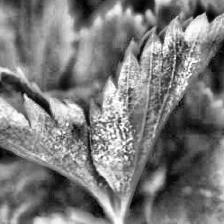Powdery Mildew Leaf: (87, 11, 224, 215), (0, 66, 113, 211)
